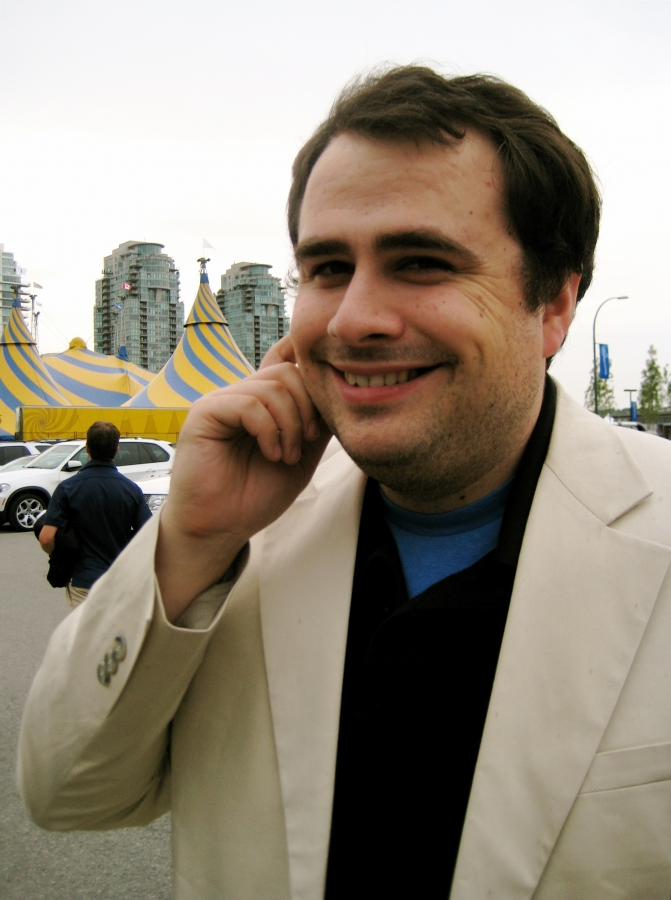phone: (247, 321, 320, 437)
talk: (169, 202, 512, 518)
